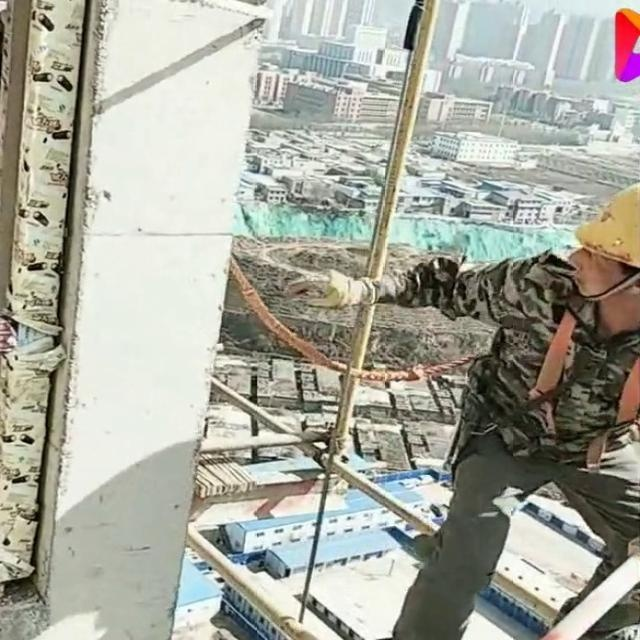Arnes_seguridad: (488, 275, 639, 452)
